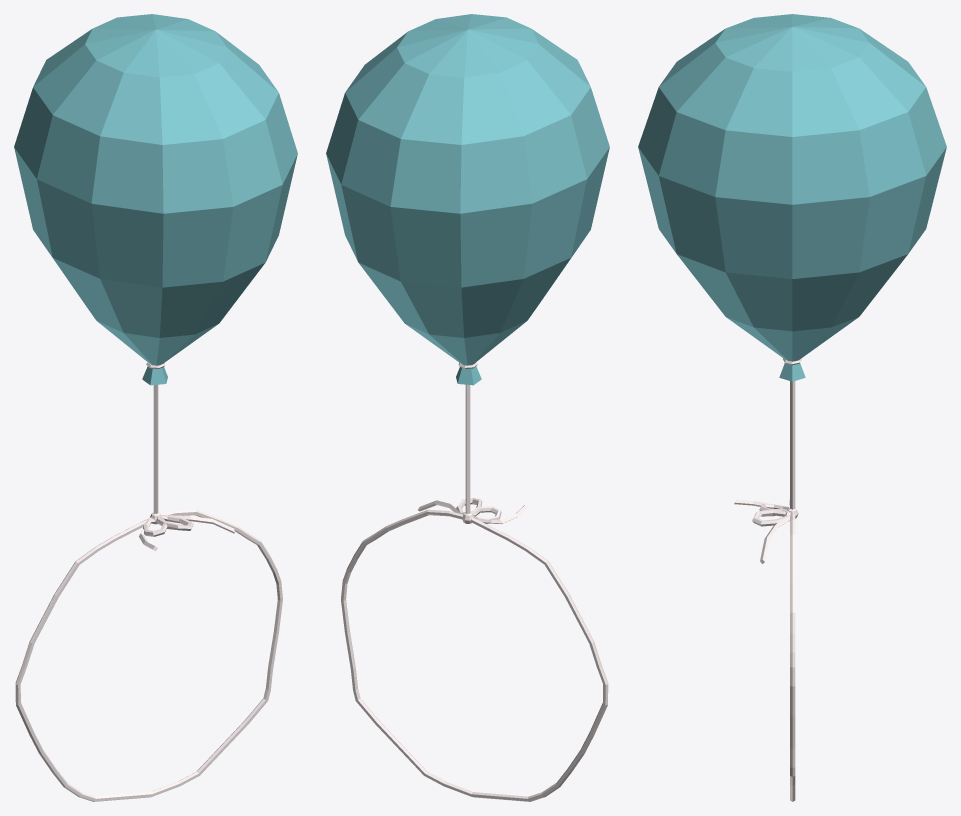
The model's file is stm_prop_balloon_loop.fbx.
3 renders of one model, left to right at view 1: azimuth 30°, elevation 25°; view 2: azimuth 150°, elevation 25°; view 3: azimuth 270°, elevation 25°, orthographic.
Parts seen in each view (by area): view 1: balloon_loop; view 2: balloon_loop; view 3: balloon_loop.
Part boxes in pixels (bbox=[...]): balloon_loop: bbox=[14, 14, 297, 801]; balloon_loop: bbox=[326, 14, 609, 801]; balloon_loop: bbox=[638, 14, 946, 801].
Size of the model in its own units: 199 by 546 by 200.
